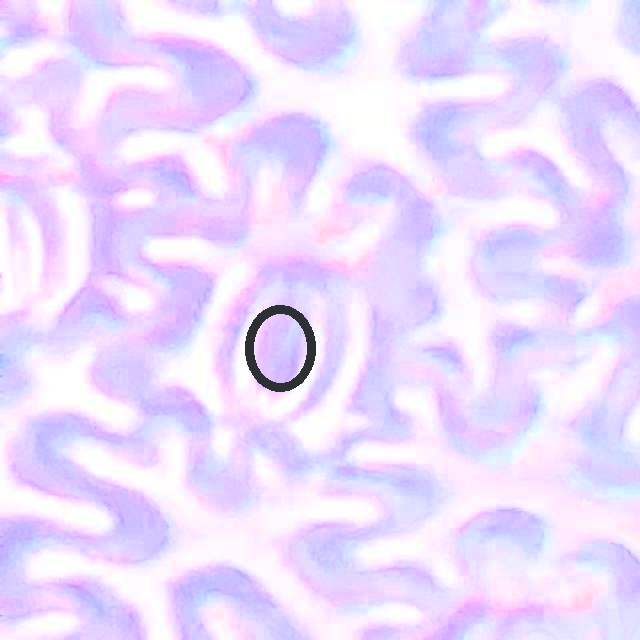open: (244, 304, 316, 392)
